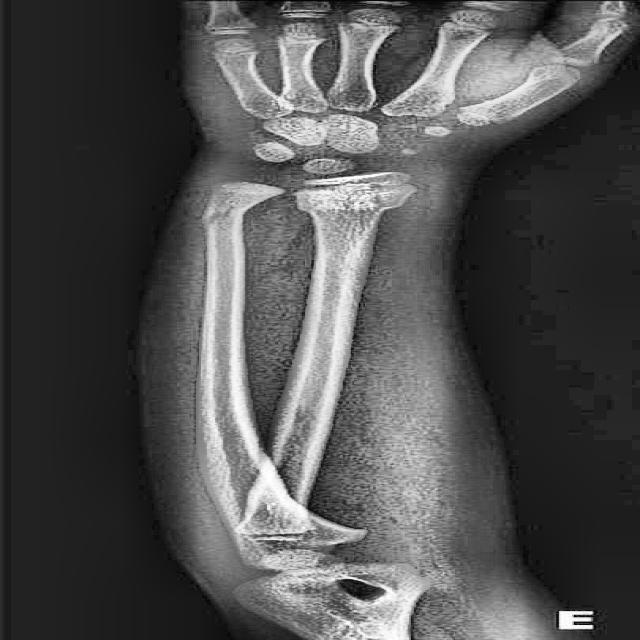angle: (196, 204, 251, 230)
line: (292, 202, 404, 216)
